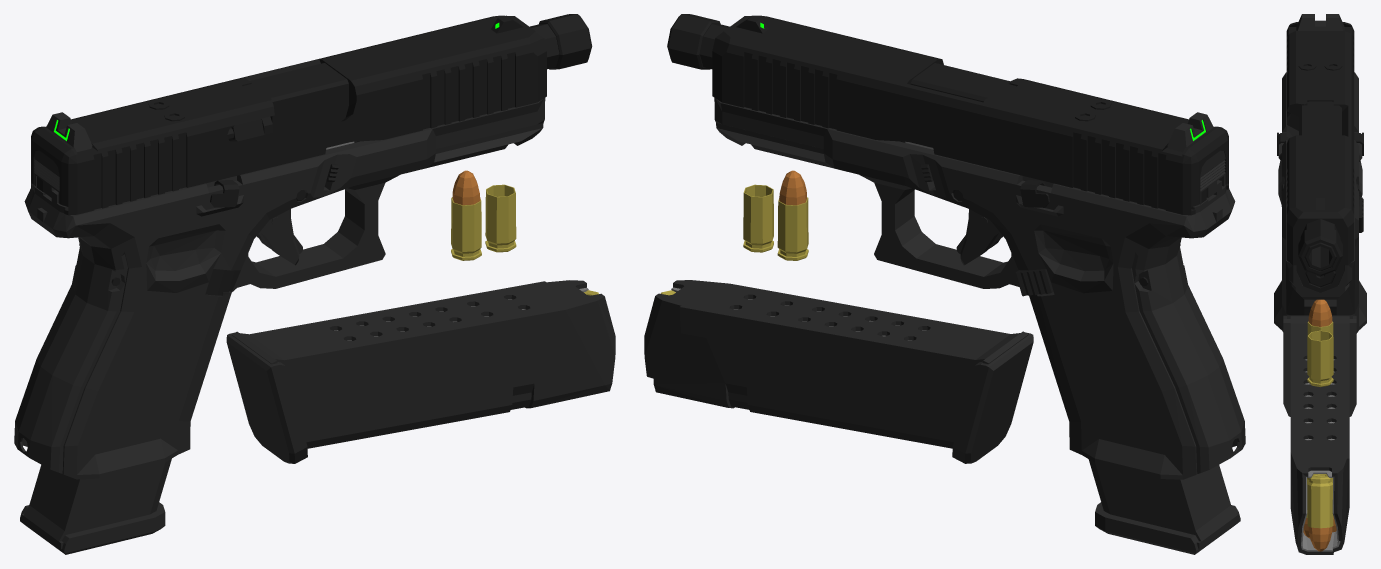
The model's file is g19_gen_5_mos.glb.
The picture shows the model from 3 angles, left to right: view 1: azimuth 30°, elevation 25°; view 2: azimuth 150°, elevation 25°; view 3: azimuth 270°, elevation 25°; orthographic projection. The views are drawn at different scales.
Visible parts, largest first — view 1: g19g5 frame_3, g17 17rnd mag_2, g19g5mos slide_0, g17 17rnd empty mag_4, g19g5mos cover_8, g19 barrel threaded_1, 919 case_6, g17 muzzle nut_7, Object_22, g19g5 trigga_9, Object_23; view 2: g19g5 frame_3, g17 17rnd mag_2, g19g5mos slide_0, g17 17rnd empty mag_4, g19g5mos cover_8, g19 barrel threaded_1, 919 case_6, g17 muzzle nut_7, Object_22, g19g5 trigga_9, Object_23; view 3: g17 17rnd mag_2, g19g5mos slide_0, g19g5 frame_3, g19g5mos cover_8, g19 barrel threaded_1, 919 case_6, g17 muzzle nut_7, Object_23, g19g5 slide stop_10, Object_22.
Part boxes in pixels (x1,y1,x2,y2): g19g5 frame_3: (14, 98, 544, 479); g17 17rnd mag_2: (226, 280, 615, 463); g19g5mos slide_0: (31, 15, 546, 215); g17 17rnd empty mag_4: (20, 176, 236, 554); g19g5mos cover_8: (71, 85, 248, 159); g19 barrel threaded_1: (243, 24, 559, 133); 919 case_6: (485, 184, 516, 252); g17 muzzle nut_7: (539, 14, 592, 69); Object_22: (451, 197, 481, 260); g19g5 trigga_9: (256, 209, 302, 265); Object_23: (452, 170, 480, 205); g19g5 frame_3: (714, 98, 1245, 479); g17 17rnd mag_2: (644, 280, 1033, 463); g19g5mos slide_0: (712, 15, 1228, 215); g17 17rnd empty mag_4: (1022, 176, 1240, 554); g19g5mos cover_8: (1011, 85, 1188, 160); g19 barrel threaded_1: (700, 24, 1016, 102); 919 case_6: (743, 184, 773, 252); g17 muzzle nut_7: (667, 14, 720, 69); Object_22: (777, 197, 808, 260); g19g5 trigga_9: (956, 209, 1002, 265); Object_23: (779, 170, 806, 205); g17 17rnd mag_2: (1283, 315, 1356, 554); g19g5mos slide_0: (1286, 14, 1354, 292); g19g5 frame_3: (1274, 72, 1366, 333); g19g5mos cover_8: (1286, 32, 1354, 99); g19 barrel threaded_1: (1299, 101, 1341, 271); 919 case_6: (1307, 330, 1333, 386); g17 muzzle nut_7: (1298, 224, 1342, 276); Object_23: (1308, 299, 1332, 326); g19g5 slide stop_10: (1277, 132, 1363, 155); Object_22: (1307, 321, 1333, 350).
Size of the model in its own units: 2.12 by 1.42 by 0.3481.
